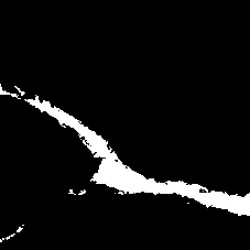crack: (3, 88, 245, 217), (68, 188, 90, 196)
